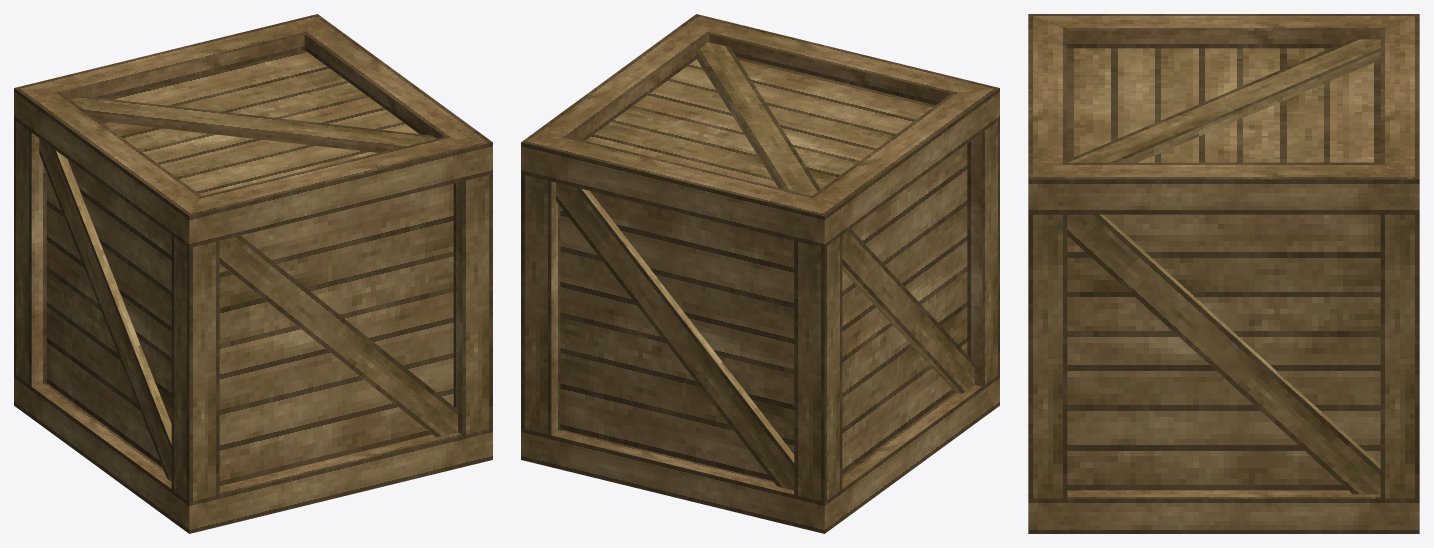
The model's file is crate_01.obj.
3 renders of one model, left to right at view 1: azimuth 30°, elevation 25°; view 2: azimuth 150°, elevation 25°; view 3: azimuth 270°, elevation 25°, orthographic. The views are drawn at different scales.
Parts seen in each view (by area): view 1: Crate_Cube; view 2: Crate_Cube; view 3: Crate_Cube.
Boxes of the visible parts, left/top/right/bottom form: Crate_Cube: left=14, top=14, right=492, bottom=533; Crate_Cube: left=521, top=14, right=999, bottom=533; Crate_Cube: left=1028, top=14, right=1419, bottom=533.
Size of the model in its own units: 1 by 1 by 1.
1 material, 1 textured.
